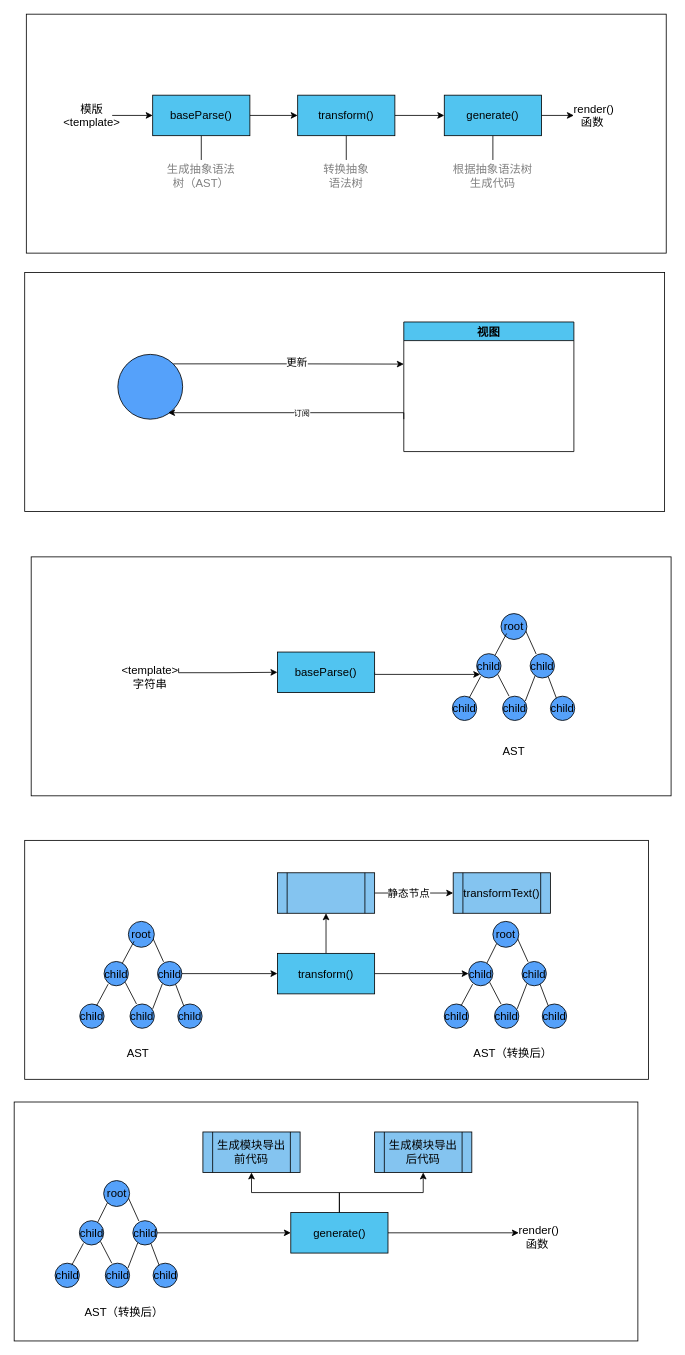
This 685x1355 diagram has some shape labels left out. The shapes that lost their labels are listed below. From the top down, each one's centre as x and y in pixels, then its label:
At (150,386): "数据".
At (326,892): "traverseNode()".
